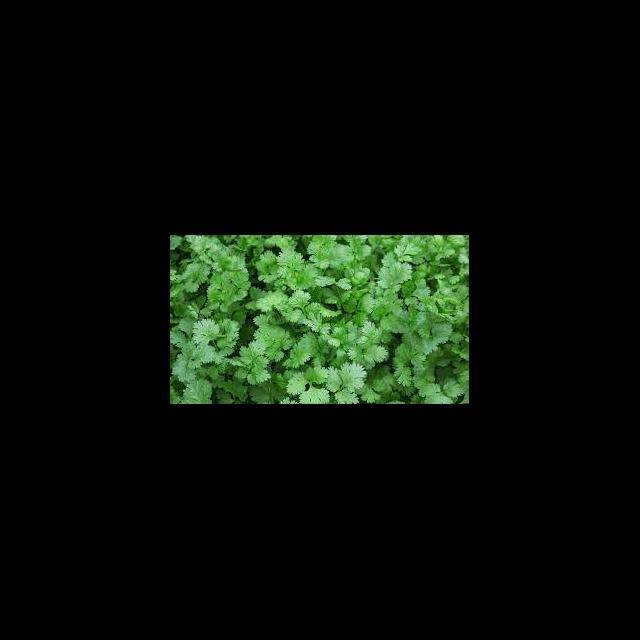cilantro: (183, 242, 396, 400)
